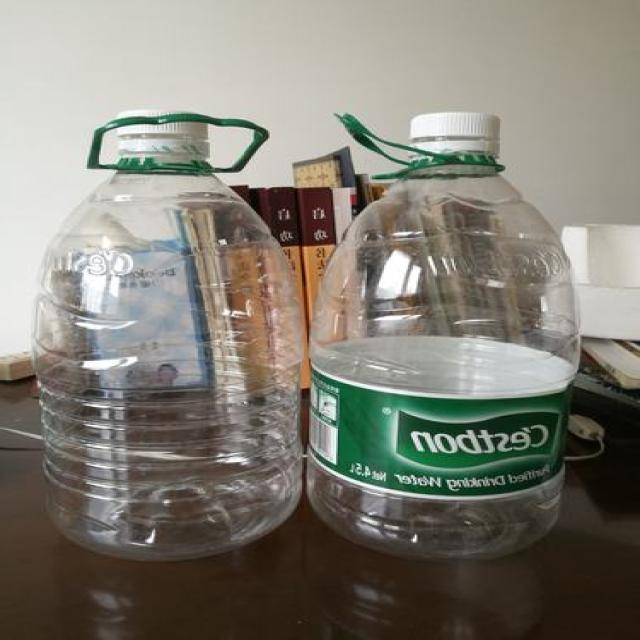plastic: (302, 108, 576, 554), (33, 110, 292, 558)
